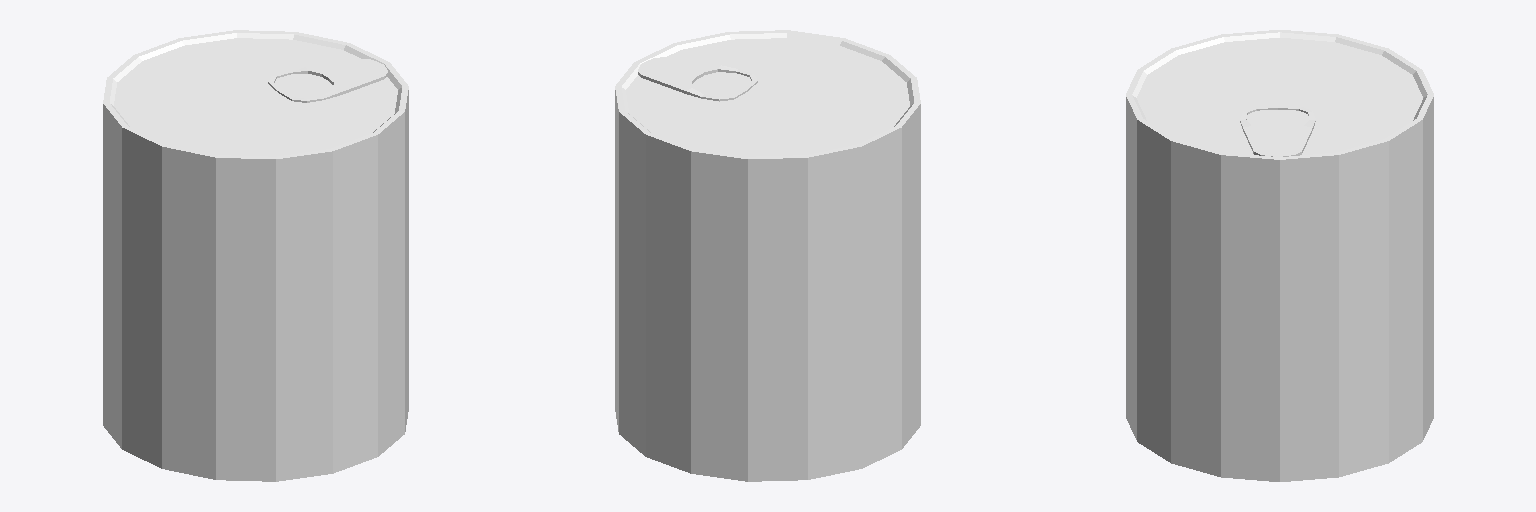
The model's file is can01a.obj.
3 views of the same model, side by side, from view 1: azimuth 30°, elevation 25°; view 2: azimuth 150°, elevation 25°; view 3: azimuth 270°, elevation 25° (orthographic).
Visible parts, largest first — view 1: LODGroup_1_MainMesh_1_Submesh_1; view 2: LODGroup_1_MainMesh_1_Submesh_1; view 3: LODGroup_1_MainMesh_1_Submesh_1.
Boxes of the visible parts, <box> form: LODGroup_1_MainMesh_1_Submesh_1: <box>103,30,408,481</box>; LODGroup_1_MainMesh_1_Submesh_1: <box>615,30,920,481</box>; LODGroup_1_MainMesh_1_Submesh_1: <box>1126,30,1433,481</box>.
Bounding box in the file's own units: 10.16 × 11.71 × 10.16.